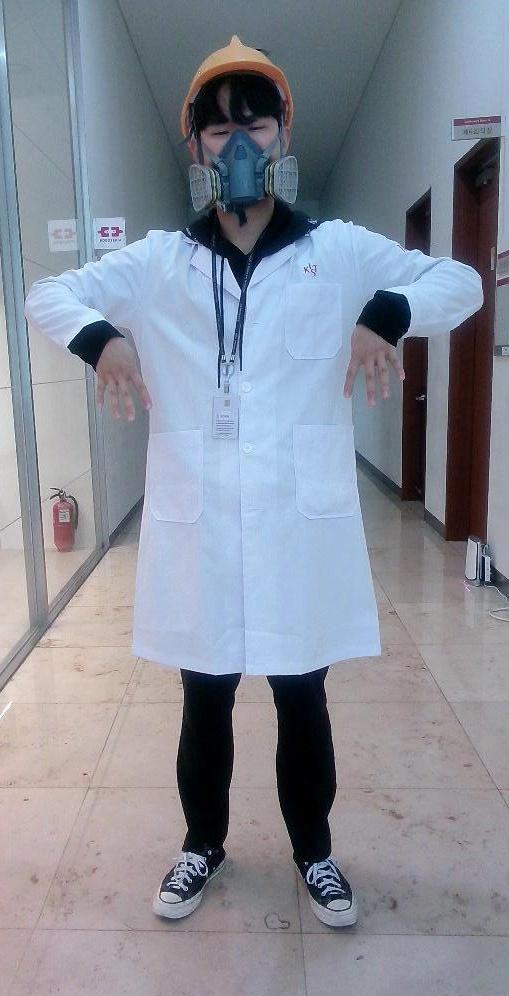lab_coat: (135, 222, 352, 687)
